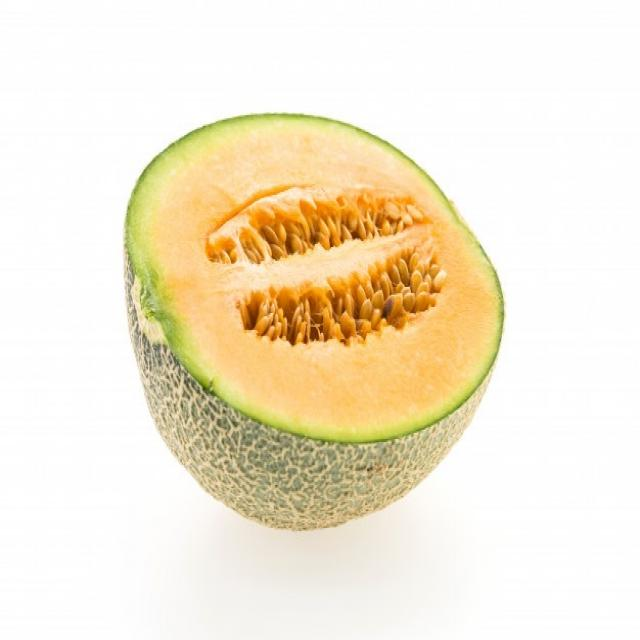melon: (124, 115, 505, 533)
